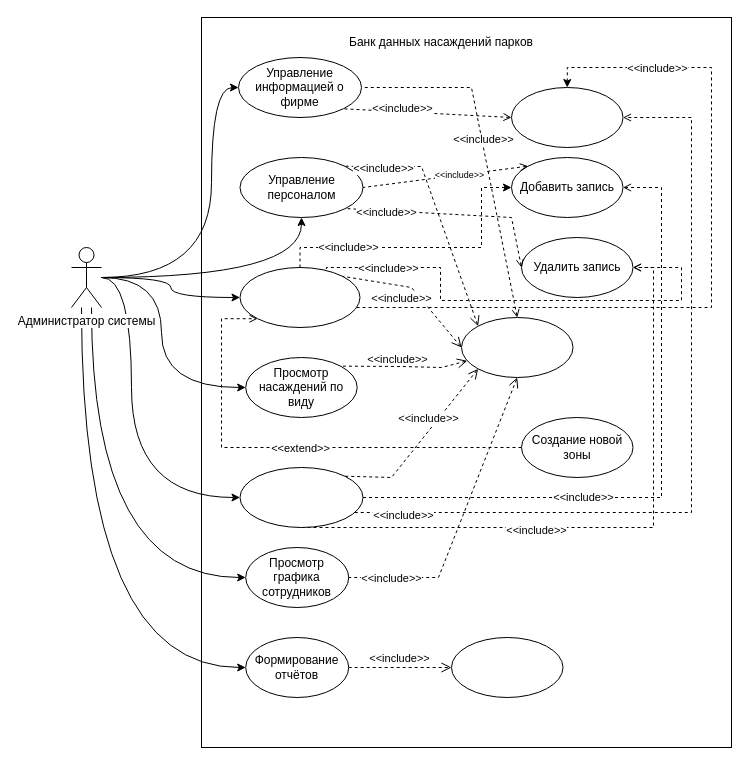
Some shapes in this 749 by 765 pixel diagram are drawn without their labels. Here are the shapes that lost their labels. From the top down, the centre of each, then its label:
At point (566, 117): "Редактировать запись".
At point (299, 297): "Управление парками и зонами".
At point (516, 347): "Авторизация в системе".
At point (301, 497): "Управление растениями".
At point (506, 667): "Поиск и фильтрация данных".
